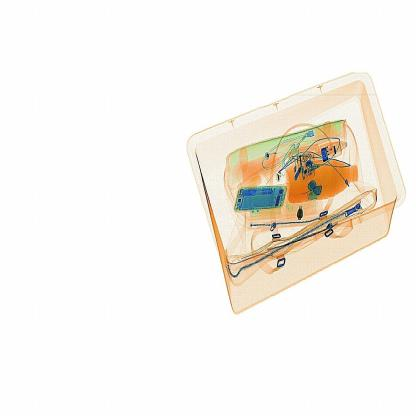wrench: (295, 203, 308, 226)
